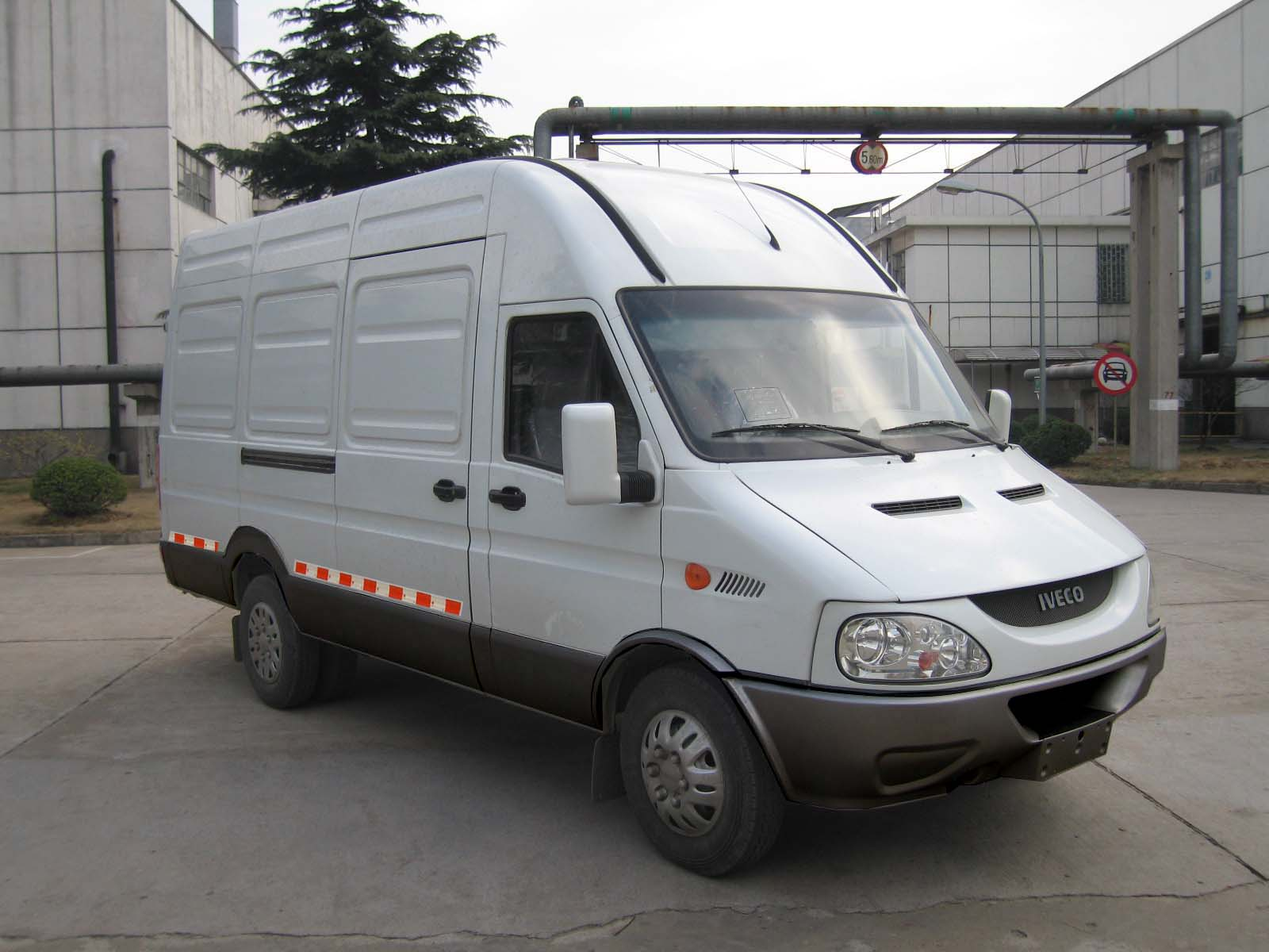midcar: (149, 137, 1169, 855)
